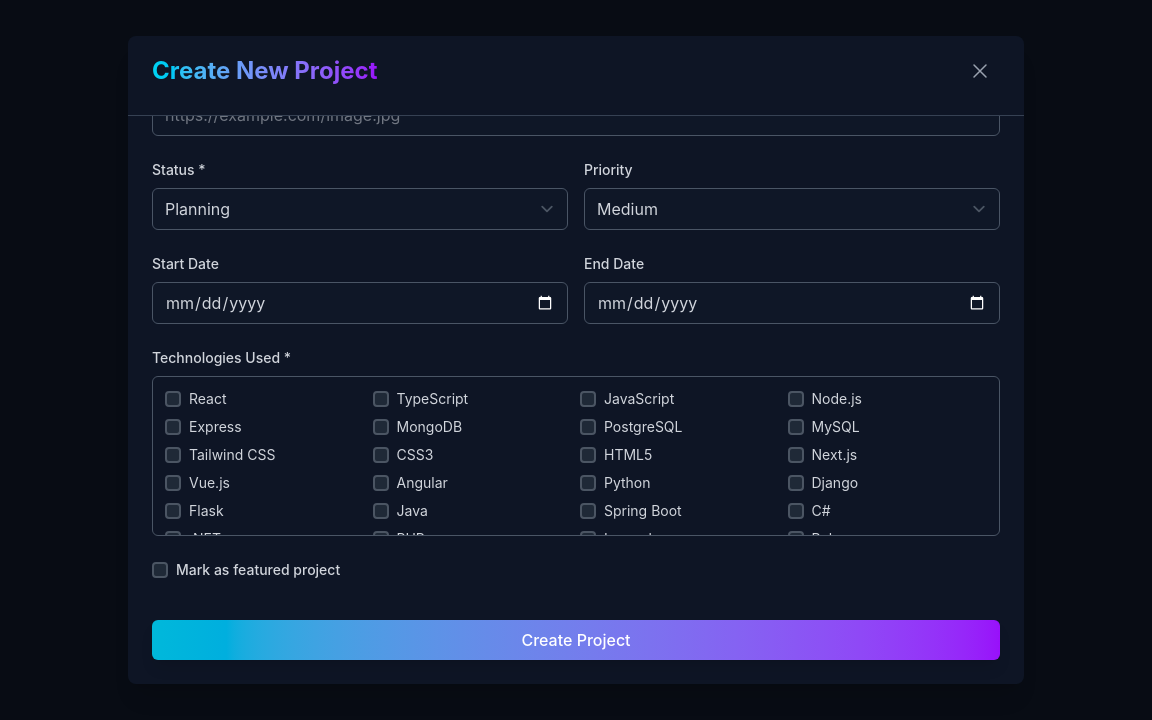
Scenario: ProjectCreateModal Unit Tests › should show validation errors for required fields
(page scrolled)
Note: Try to submit without filling required fields
Click the button "Create Project" at coordinates (576, 640), box [152, 620, 1000, 660]
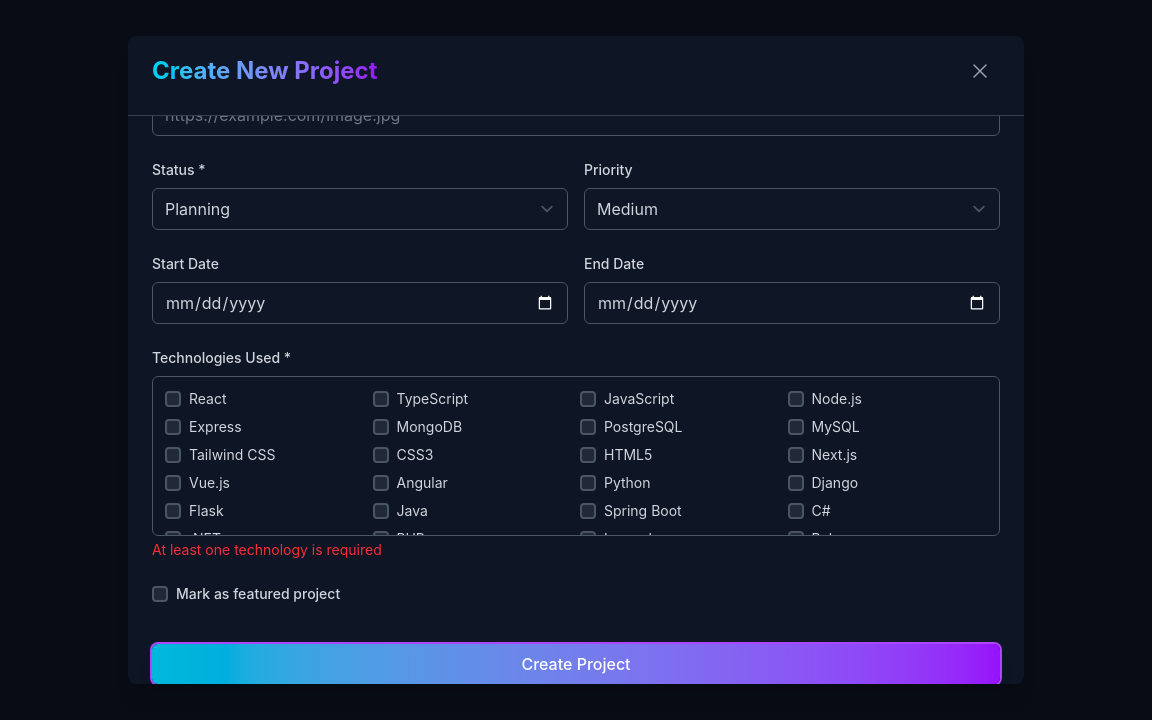
Expected: the text "At least one technology is required" is shown, [152, 541, 382, 558]
